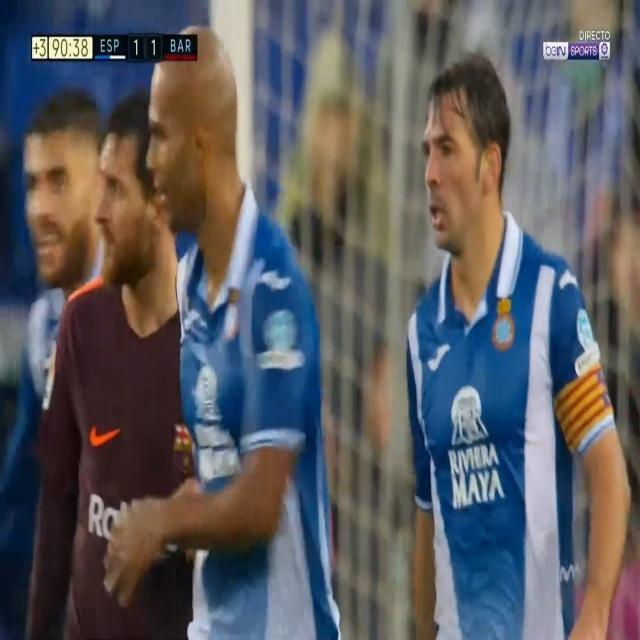player: (365, 0, 640, 608), (148, 22, 366, 640), (63, 86, 186, 640)
